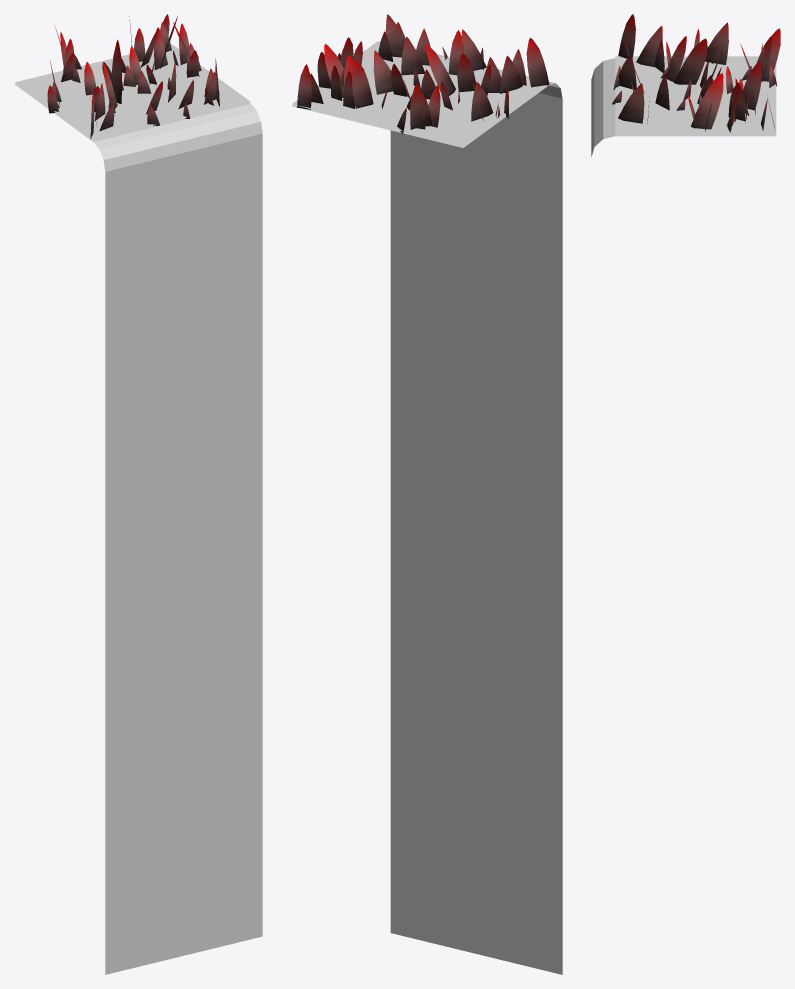
Rendered from f_GrassTileModel_1.fbx.
3 renders of one model, left to right at view 1: azimuth 30°, elevation 25°; view 2: azimuth 150°, elevation 25°; view 3: azimuth 270°, elevation 25°, orthographic. The views are drawn at different scales.
Parts seen in each view (by area): view 1: Stone.001, GrassGround.002, Grass.002; view 2: Stone.001, Grass.002, GrassGround.002; view 3: Grass.002, GrassGround.002, Stone.001.
Part boxes in pixels (bbox=[...]): Stone.001: bbox=[14, 83, 262, 974]; GrassGround.002: bbox=[14, 44, 250, 140]; Grass.002: bbox=[47, 14, 219, 139]; Stone.001: bbox=[291, 49, 562, 974]; Grass.002: bbox=[297, 14, 549, 134]; GrassGround.002: bbox=[292, 41, 546, 146]; Grass.002: bbox=[612, 14, 780, 132]; GrassGround.002: bbox=[615, 56, 776, 134]; Stone.001: bbox=[591, 58, 776, 156].
Bounding box in the file's own units: 1.03 × 5.32 × 1.02.
